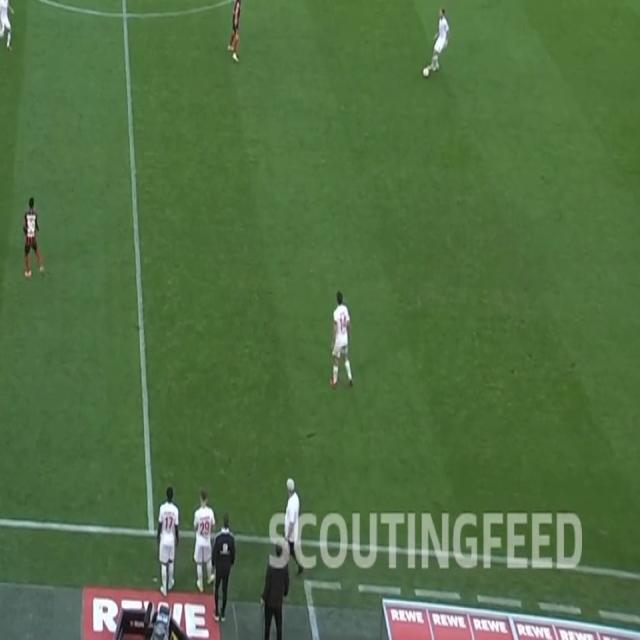ball: (423, 66, 429, 78)
